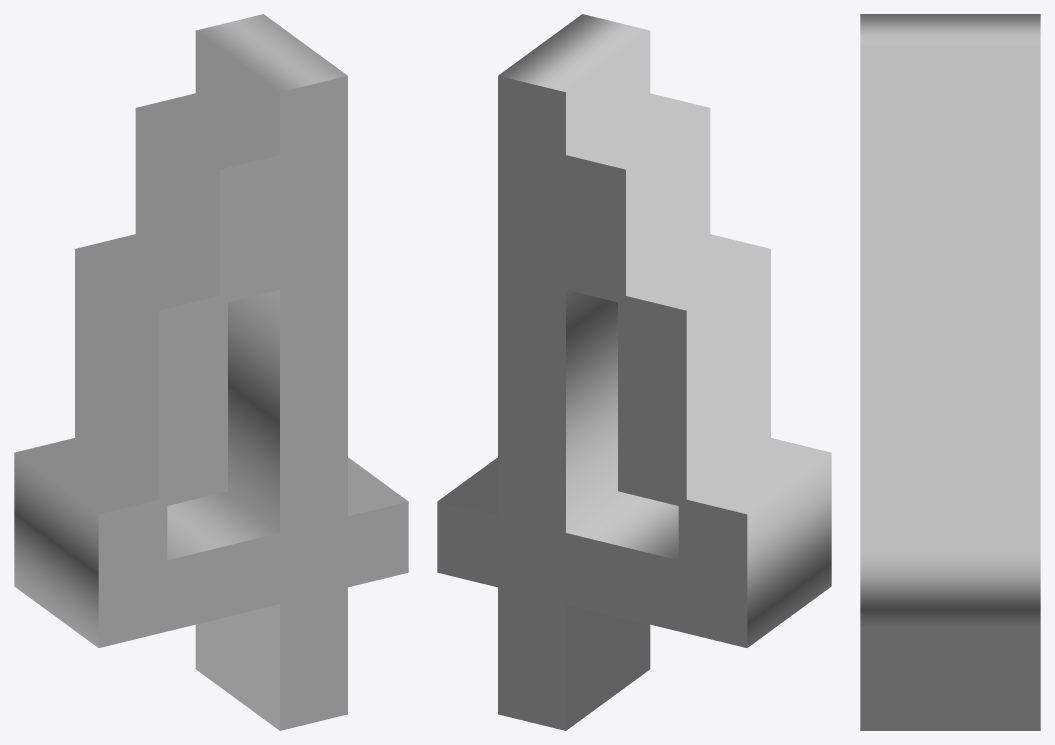
Rendered from number_4.fbx.
3 views of the same model, side by side, from view 1: azimuth 30°, elevation 25°; view 2: azimuth 150°, elevation 25°; view 3: azimuth 270°, elevation 25° (orthographic). The views are drawn at different scales.
Visible parts, largest first — view 1: 4; view 2: 4; view 3: 4.
Part boxes in pixels (left/top/right/bottom): 4: left=14, top=14, right=408, bottom=730; 4: left=437, top=14, right=831, bottom=730; 4: left=860, top=14, right=1040, bottom=730.
Bounding box in the file's own units: 84.8 × 167 × 40.
